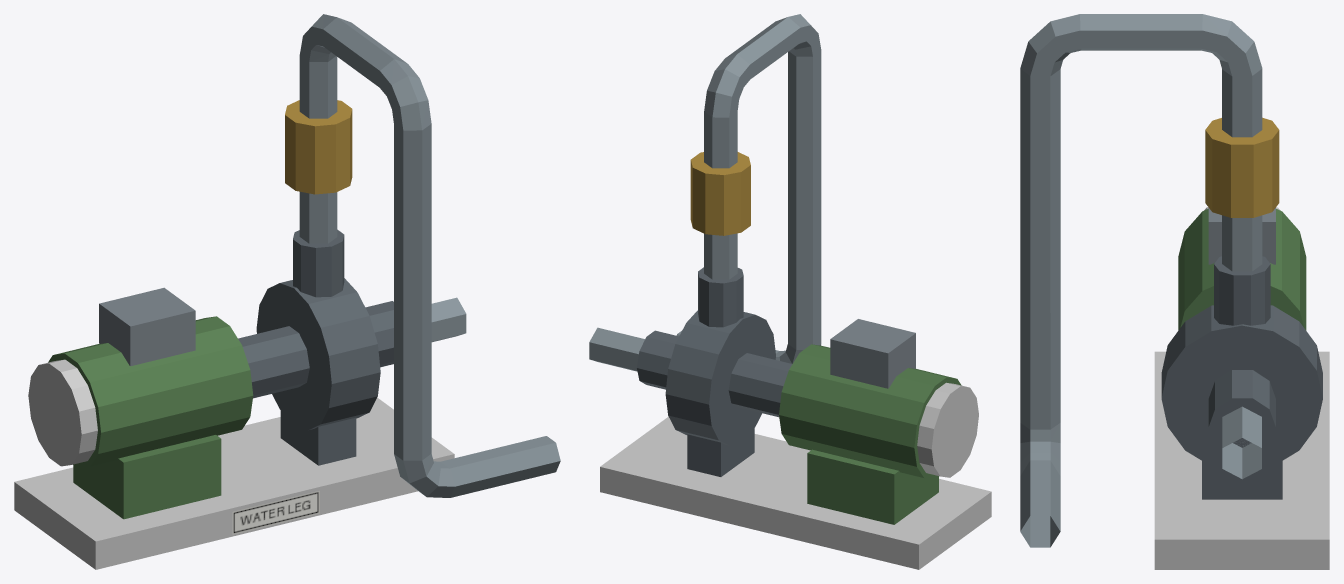
The model's file is cell_10.obj.
The picture shows the model from 3 angles, left to right: view 1: azimuth 30°, elevation 25°; view 2: azimuth 150°, elevation 25°; view 3: azimuth 270°, elevation 25°; orthographic projection. The views are drawn at different scales.
Size of the model in its own units: 0.74 by 0.83 by 0.46.
